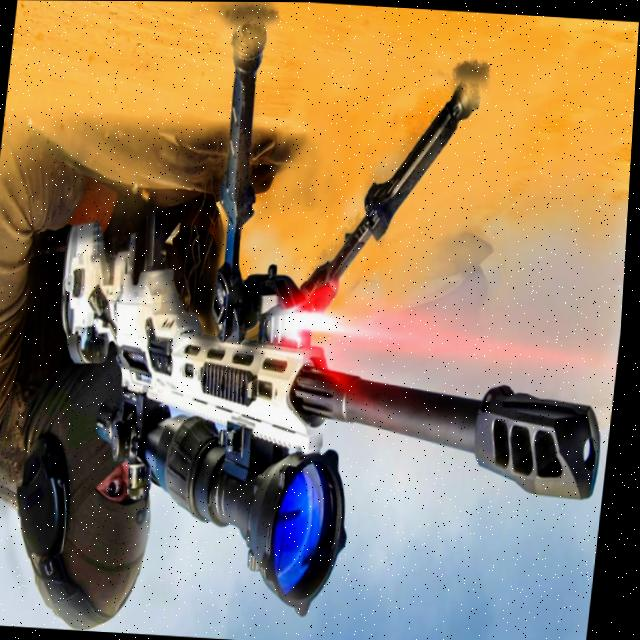firearm: (30, 4, 640, 632)
